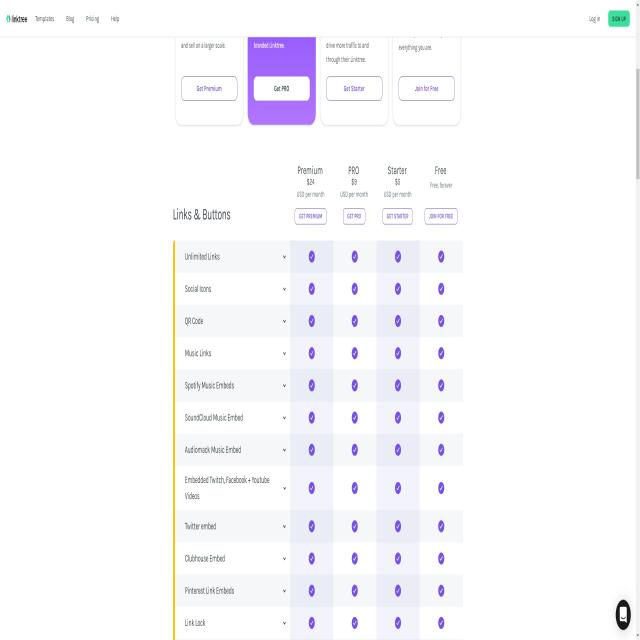menu-bar: (4, 10, 125, 29), (588, 4, 630, 32)
